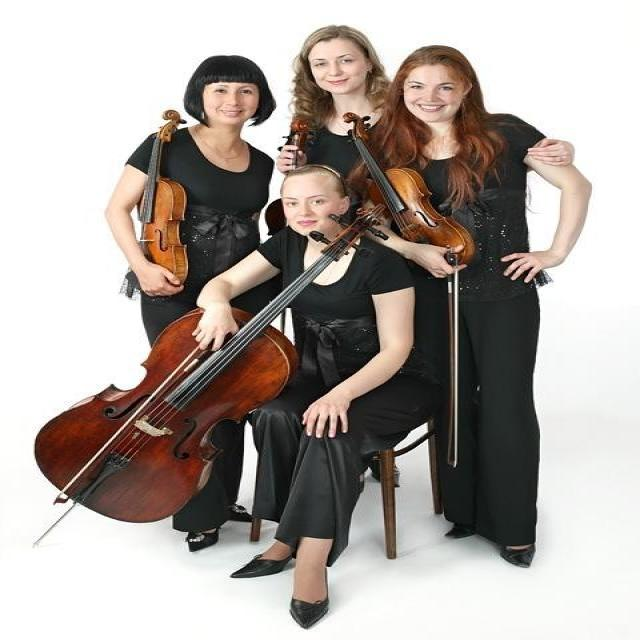cello: (29, 202, 389, 526)
violin: (341, 112, 477, 272), (131, 112, 195, 290), (264, 117, 316, 234)
